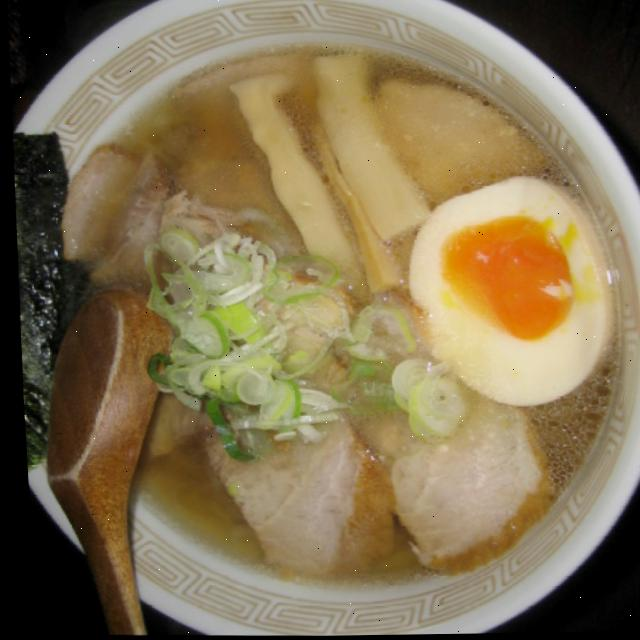面条主食: (48, 167, 640, 629)
